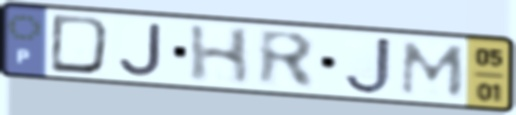D: (46, 12, 114, 78)
H: (186, 23, 254, 87)
J: (341, 35, 395, 96), (116, 21, 166, 79)
M: (397, 39, 470, 99)
R: (255, 27, 319, 92)
